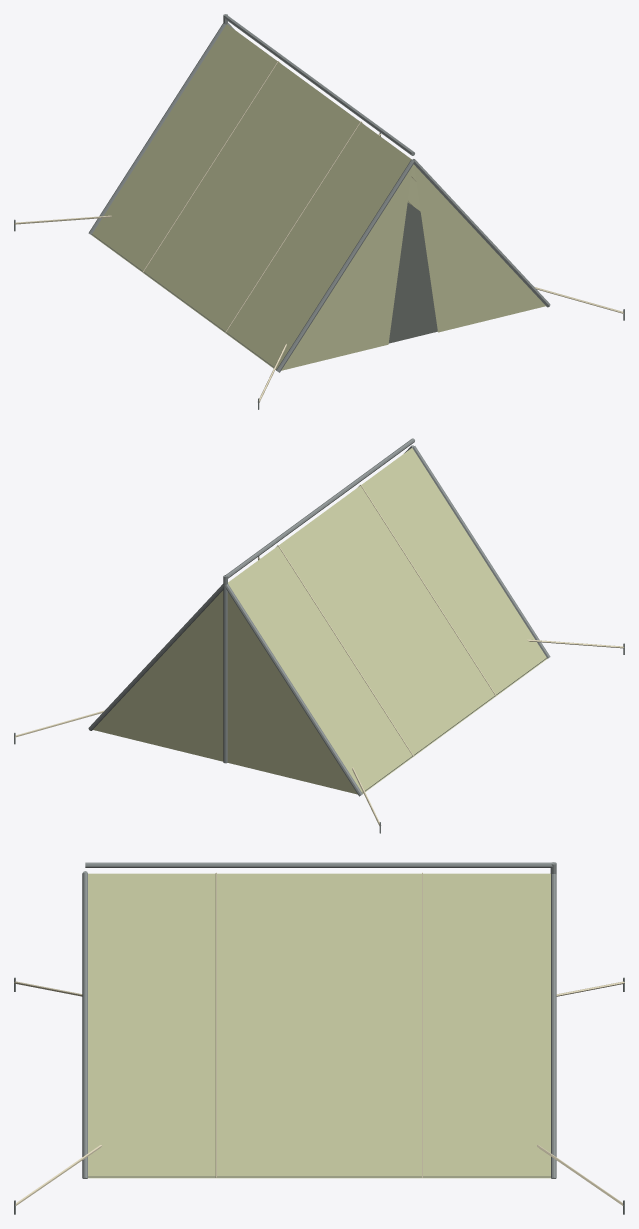
File: Tent_A_Large.fbx
The picture shows the model from 3 angles, top to bottom: view 1: azimuth 30°, elevation 25°; view 2: azimuth 150°, elevation 25°; view 3: azimuth 270°, elevation 25°; orthographic projection. The views are drawn at different scales.
Visible parts, largest first — view 1: Tent_A_Large_Geometry; view 2: Tent_A_Large_Geometry; view 3: Tent_A_Large_Geometry.
Boxes of the visible parts, <box> form: Tent_A_Large_Geometry: <box>14,14,624,409</box>; Tent_A_Large_Geometry: <box>14,438,624,833</box>; Tent_A_Large_Geometry: <box>14,862,624,1214</box>.
Bounding box in the file's own units: 474 × 238 × 548.
